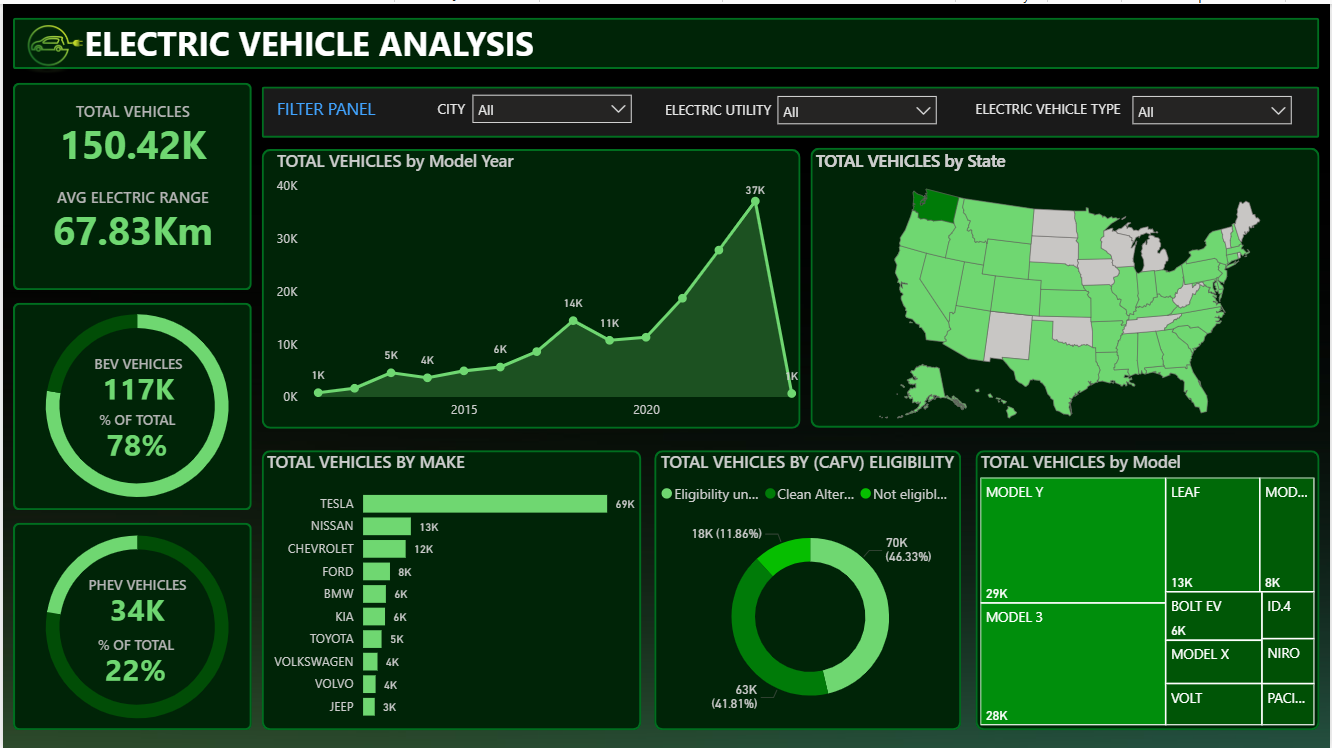

The dashboard page shown, as its layout file describes it:
{"tool":"powerbi","page":{"name":"Page 1","canvas":[1280,720],"ordinal":0},"visuals":[{"type":"shape","box":[9.7,13.3,1260.7,49.5],"z":0},{"type":"textbox","box":[73.6,10.9,452.4,54.3],"z":1000},{"type":"shape","box":[9.7,76,230.4,200.3],"z":2000},{"type":"card","title":"TOTAL VEHICLES","fields":{"Values":["Electric_Vehicle_Population_Data.TOTAL VEHICLES"]},"box":[48.3,92.9,154.4,63.9],"z":3000},{"type":"card","title":"AVG ELECTRIC RANGE","fields":{"Values":["Electric_Vehicle_Population_Data.AVG RANGE"]},"box":[39.8,176.1,171.3,63.9],"z":4000},{"type":"shape","box":[9.7,500.7,230.4,200.3],"z":5000},{"type":"shape","box":[9.7,288.3,230.4,200.3],"z":6000},{"type":"donutChart","fields":{"Category":["Electric_Vehicle_Population_Data.Electric Vehicle Type"],"Y":["Electric_Vehicle_Population_Data.TOTAL VEHICLES"]},"box":[0,273.1,259.3,230.5],"z":7000},{"type":"card","title":"BEV VEHICLES","fields":{"Values":["Electric_Vehicle_Population_Data.BEV VECHICLES"]},"box":[82.3,337.6,97.4,49.4],"z":8000},{"type":"card","title":"% OF TOTAL","fields":{"Values":["Electric_Vehicle_Population_Data.% OF BEV"]},"box":[81,392.5,97.4,49.4],"z":9000},{"type":"donutChart","fields":{"Category":["Electric_Vehicle_Population_Data.Electric Vehicle Type"],"Y":["Electric_Vehicle_Population_Data.TOTAL VEHICLES"]},"box":[0,485.8,259.3,230.5],"z":10000},{"type":"shape","box":[249.7,430.9,366.4,270.3],"z":10500},{"type":"card","title":"PHEV VEHICLES","fields":{"Values":["Electric_Vehicle_Population_Data.PHEV VECHICLES"]},"box":[74.1,551.6,112.5,49.4],"z":11000},{"type":"card","title":"% OF TOTAL","fields":{"Values":["Electric_Vehicle_Population_Data.% OF PHEV"]},"box":[79.6,609.3,97.4,49.4],"z":12000},{"type":"shape","box":[249.7,79.6,1020.6,49.5],"z":13000},{"type":"shape","box":[249.7,140,520,270],"z":14000},{"type":"areaChart","fields":{"Category":["Electric_Vehicle_Population_Data.Model Year"],"Y":["Electric_Vehicle_Population_Data.TOTAL VEHICLES"]},"box":[259.3,140,520.1,270.3],"z":15000},{"type":"shape","box":[779.4,138.6,491.3,270.3],"z":16000},{"type":"shapeMap","fields":{"Category":["Electric_Vehicle_Population_Data.State"],"Value":["Electric_Vehicle_Population_Data.TOTAL VEHICLES"]},"box":[779.4,140,500.9,277.2],"z":17000},{"type":"shapeMap","fields":{"Category":["Electric_Vehicle_Population_Data.State"],"Value":["Electric_Vehicle_Population_Data.TOTAL VEHICLES"]},"box":[779.1,140,500.9,277.2],"z":18000},{"type":"barChart","title":"TOTAL VEHICLES BY MAKE","fields":{"Category":["Electric_Vehicle_Population_Data.Make"],"Y":["Electric_Vehicle_Population_Data.TOTAL VEHICLES"]},"box":[249.7,430.9,366.4,270.3],"z":20000},{"type":"shape","box":[628.5,430.9,296.4,270.3],"z":20001},{"type":"donutChart","title":"TOTAL VEHICLES BY (CAFV) ELIGIBILITY","fields":{"Category":["Electric_Vehicle_Population_Data.Clean Alternative Fuel Vehicle (CAFV) Eligibility"],"Y":["Electric_Vehicle_Population_Data.TOTAL VEHICLES"]},"box":[629.8,430.9,299.1,270.3],"z":20002},{"type":"shape","box":[938.6,430.9,332.1,270.3],"z":20003},{"type":"treemap","fields":{"Group":["Electric_Vehicle_Population_Data.Model"],"Values":["Electric_Vehicle_Population_Data.TOTAL VEHICLES"]},"box":[938.6,430.9,332.1,270.3],"z":20004},{"type":"textbox","box":[259.4,84.5,118.2,41],"z":20005},{"type":"slicer","fields":{"Values":["Electric_Vehicle_Population_Data.City"]},"box":[442.8,77.2,173.7,39.8],"z":20006},{"type":"textbox","box":[399.3,86.9,66.4,35],"z":20007},{"type":"slicer","fields":{"Values":["Electric_Vehicle_Population_Data.Electric Utility"]},"box":[737.1,78.4,173.7,39.8],"z":20008},{"type":"textbox","box":[620.1,88.1,139.9,35],"z":20009},{"type":"slicer","fields":{"Values":["Electric_Vehicle_Population_Data.Electric Vehicle Type"]},"box":[1079.8,78.4,173.7,39.8],"z":20010},{"type":"textbox","box":[929,86.9,159.3,35],"z":20011},{"type":"image","box":[16.9,10.9,65.1,65.1],"z":20012}]}

Visuals, with their boxes in screenshot pixels (x1, y1, x2, y2), scaled from the page's 1280x720 canvas onto the 1332x748 screenshot:
shape: region(10, 14, 1322, 65)
textbox: region(77, 11, 547, 68)
shape: region(10, 79, 250, 287)
"TOTAL VEHICLES" card: region(50, 97, 211, 163)
"AVG ELECTRIC RANGE" card: region(41, 183, 220, 249)
shape: region(10, 520, 250, 728)
shape: region(10, 300, 250, 508)
donutChart - Electric_Vehicle_Population_Data.Electric Vehicle Type x Electric_Vehicle_Population_Data.TOTAL VEHICLES: region(0, 284, 270, 523)
"BEV VEHICLES" card: region(86, 351, 187, 402)
"% OF TOTAL" card: region(84, 408, 186, 459)
donutChart - Electric_Vehicle_Population_Data.Electric Vehicle Type x Electric_Vehicle_Population_Data.TOTAL VEHICLES: region(0, 505, 270, 744)
shape: region(260, 448, 641, 728)
"PHEV VEHICLES" card: region(77, 573, 194, 624)
"% OF TOTAL" card: region(83, 633, 184, 684)
shape: region(260, 83, 1322, 134)
shape: region(260, 145, 801, 426)
areaChart - Electric_Vehicle_Population_Data.Model Year x Electric_Vehicle_Population_Data.TOTAL VEHICLES: region(270, 145, 811, 426)
shape: region(811, 144, 1322, 425)
shapeMap - Electric_Vehicle_Population_Data.State x Electric_Vehicle_Population_Data.TOTAL VEHICLES: region(811, 145, 1331, 433)
shapeMap - Electric_Vehicle_Population_Data.State x Electric_Vehicle_Population_Data.TOTAL VEHICLES: region(811, 145, 1331, 433)
"TOTAL VEHICLES BY MAKE" barChart: region(260, 448, 641, 728)
shape: region(654, 448, 962, 728)
"TOTAL VEHICLES BY (CAFV) ELIGIBILITY" donutChart: region(655, 448, 967, 728)
shape: region(977, 448, 1322, 728)
treemap - Electric_Vehicle_Population_Data.Model x Electric_Vehicle_Population_Data.TOTAL VEHICLES: region(977, 448, 1322, 728)
textbox: region(270, 88, 393, 130)
slicer - Electric_Vehicle_Population_Data.City: region(461, 80, 642, 122)
textbox: region(416, 90, 485, 127)
slicer - Electric_Vehicle_Population_Data.Electric Utility: region(767, 81, 948, 123)
textbox: region(645, 92, 791, 128)
slicer - Electric_Vehicle_Population_Data.Electric Vehicle Type: region(1124, 81, 1304, 123)
textbox: region(967, 90, 1133, 127)
image: region(18, 11, 85, 79)
